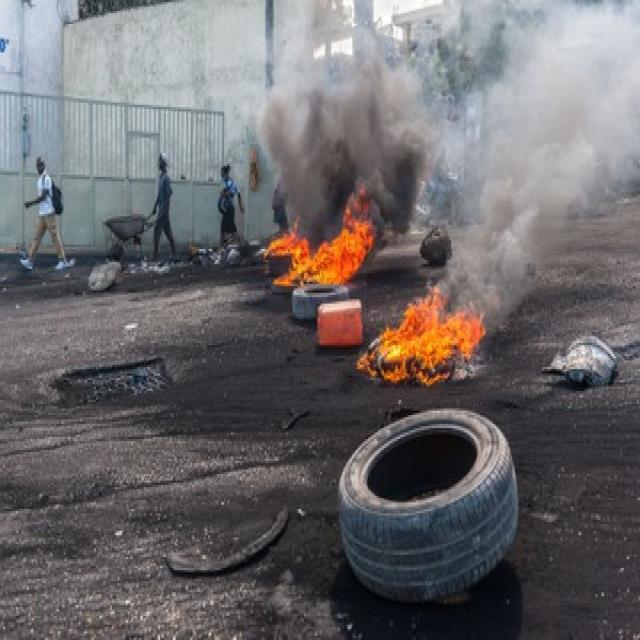fire: (357, 284, 485, 385), (274, 207, 374, 285), (267, 224, 309, 256)
